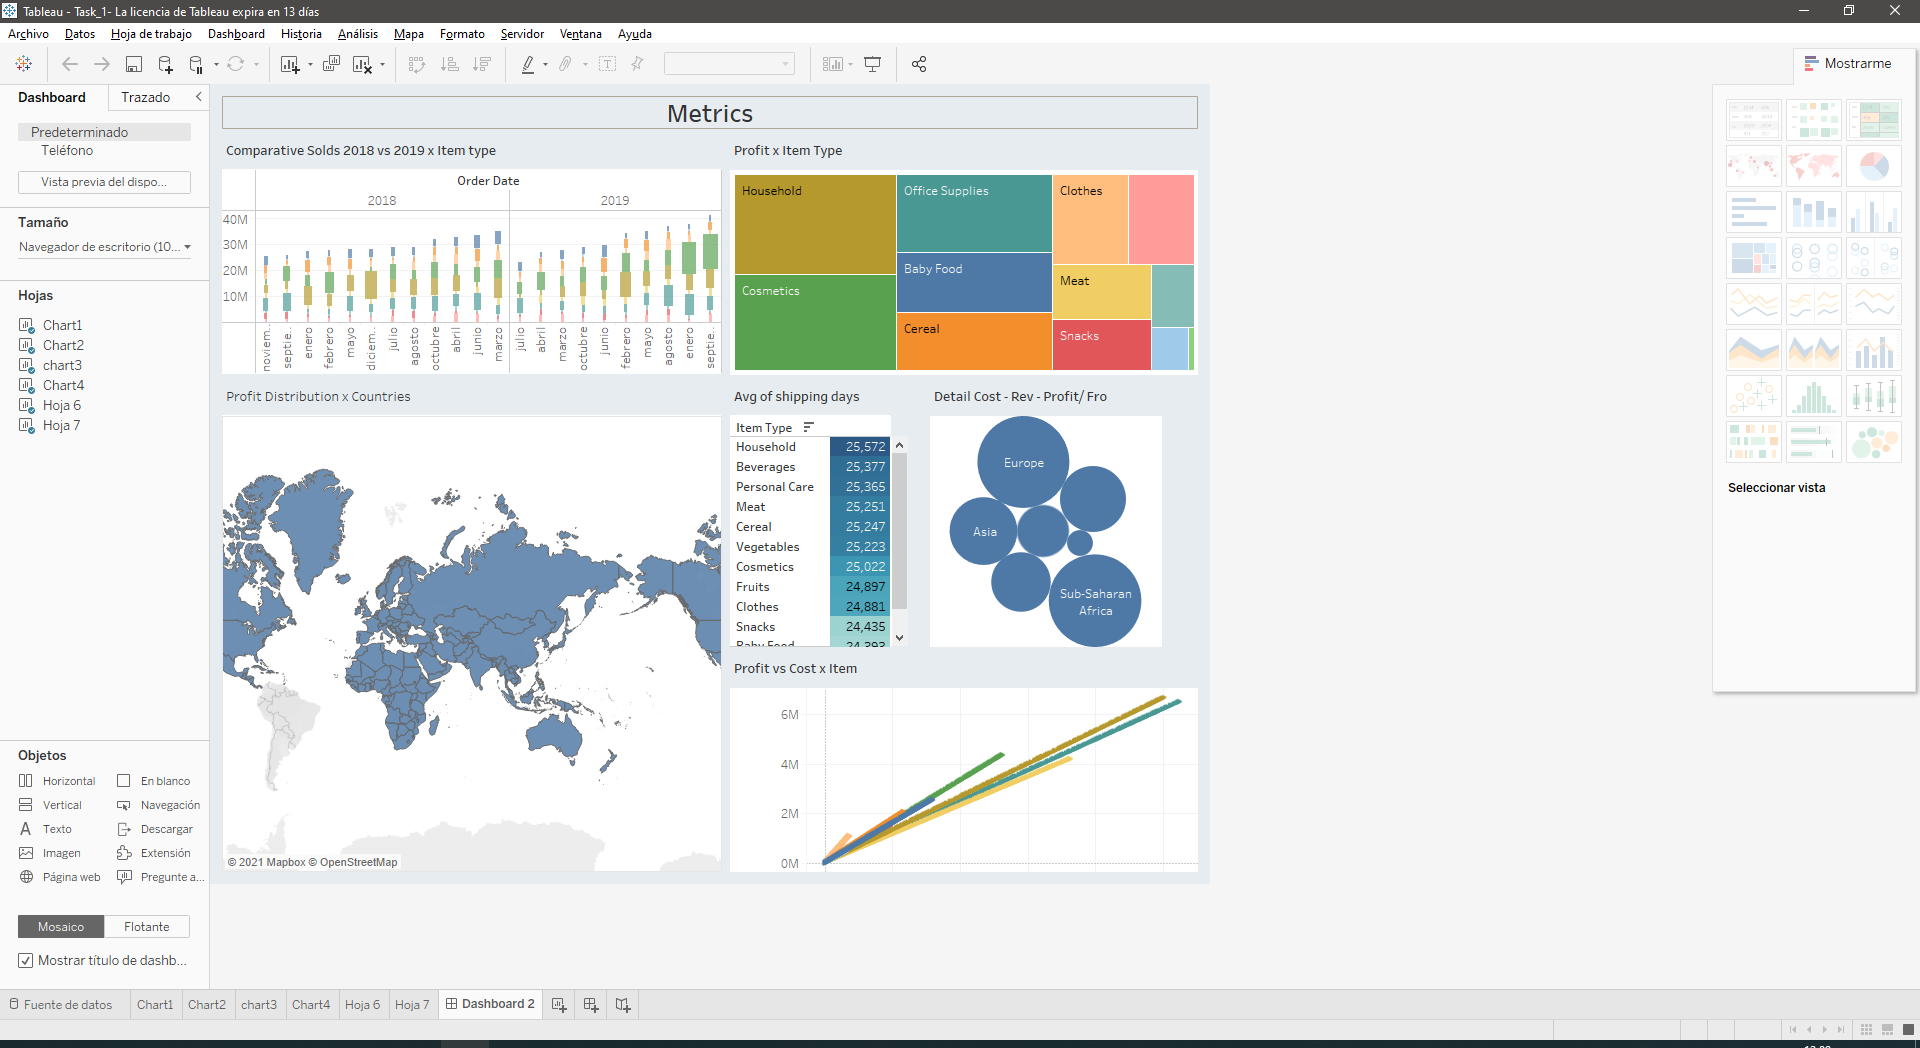

The page's visual inventory and layout, read from the dashboard file:
{"tool":"tableau","page":{"name":"Dashboard 2","canvas":[1000,800],"ordinal":0},"visuals":[{"type":"title","box":[8,8,984,41]},{"type":"worksheet","title":"chart3","mark":"Bar","rows":["total_profit"],"cols":["order_date","order_date"],"box":[8,49,508,246.3]},{"type":"worksheet","title":"Chart1","mark":"Automatic","box":[516,49,476,246.3]},{"type":"worksheet","title":"Chart4","mark":"Multipolygon","box":[8,295.3,508,496.7]},{"type":"worksheet","title":"Hoja 6","mark":"Square","rows":["item_type"],"box":[516,295.3,200,271.9]},{"type":"worksheet","title":"Chart2","mark":"Circle","box":[716,295.3,276,271.9]},{"type":"worksheet","title":"Hoja 7","mark":"Automatic","rows":["Calculation_117093615165972482"],"cols":["Calculation_117093615165530112"],"box":[516,567.2,476,224.8]}]}

Visuals, with their boxes on the page's 1000x800 design canvas (x1, y1, x2, y2). These are canvas units, not pixel positions in the 1920x1048 screenshot, which may show the page scaled, cropped or inside an application window:
title: (x1=8, y1=8, x2=992, y2=49)
"chart3" worksheet (Bar marks): (x1=8, y1=49, x2=516, y2=295)
"Chart1" worksheet: (x1=516, y1=49, x2=992, y2=295)
"Chart4" worksheet (Multipolygon marks): (x1=8, y1=295, x2=516, y2=792)
"Hoja 6" worksheet (Square marks): (x1=516, y1=295, x2=716, y2=567)
"Chart2" worksheet (Circle marks): (x1=716, y1=295, x2=992, y2=567)
"Hoja 7" worksheet: (x1=516, y1=567, x2=992, y2=792)
